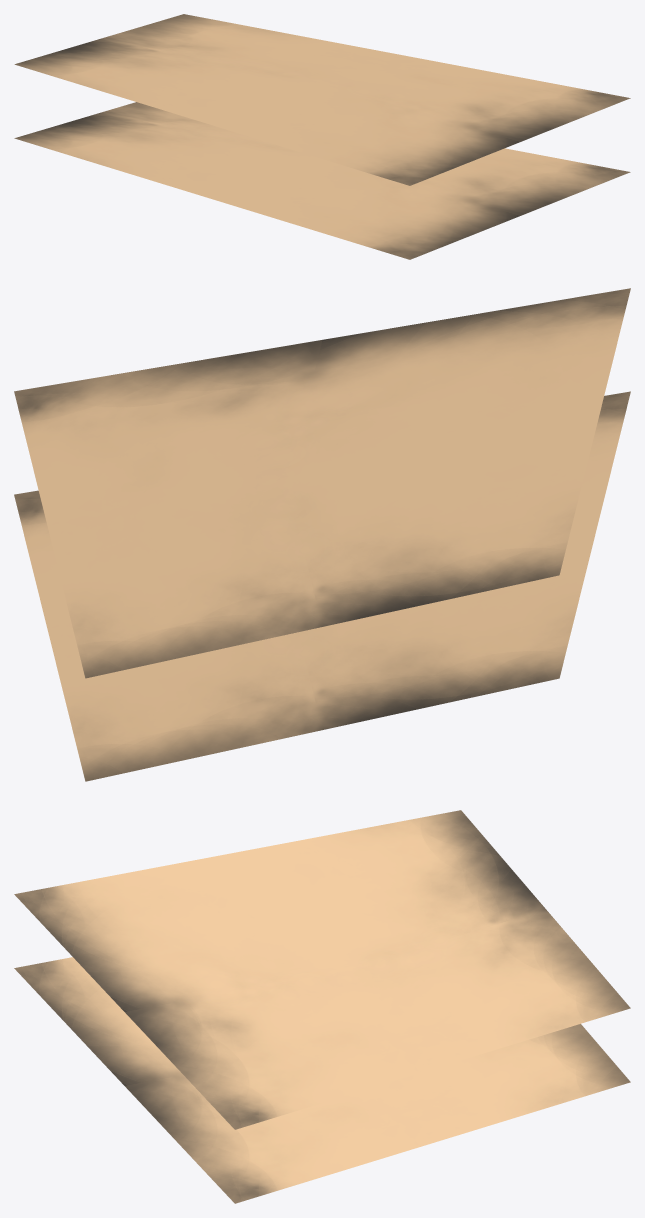
Rendered from CourseSummer_CurveFloor_8_3.fbx.
3 views of the same model, one above another, from view 1: azimuth 30°, elevation 25°; view 2: azimuth 150°, elevation 25°; view 3: azimuth 270°, elevation 25° (orthographic). The views are drawn at different scales.
Visible parts, largest first — view 1: polySurface242, polySurface250; view 2: polySurface242, polySurface250; view 3: polySurface242, polySurface250.
Boxes of the visible parts, <box> form: polySurface242: <box>14,14,630,185</box>; polySurface250: <box>14,102,630,259</box>; polySurface242: <box>14,288,630,678</box>; polySurface250: <box>14,391,630,781</box>; polySurface242: <box>14,810,630,1129</box>; polySurface250: <box>14,957,630,1203</box>.
Size of the model in its own units: 7.13 by 2 by 7.56.
1 material, 1 textured.
